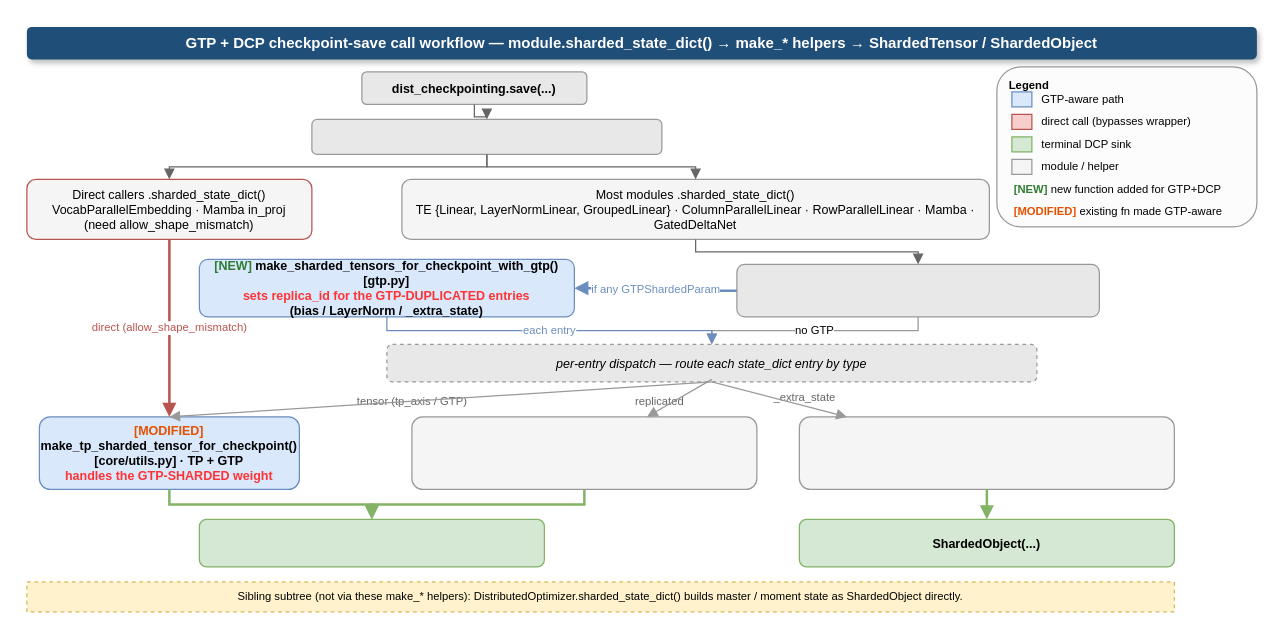
Image size: 1285x634. Some labels were removed from this diagram. Here are the shapes that lost their labels. From the top down, the centre of each, then its label:
At [486,136]: "model.sharded_state_dict() — recurses submodules".
At [917,290]: "make_sharded_tensors_for_checkpoint() [core/transformer/utils.py]".
At [584,452]: "make_sharded_tensor_for_checkpoint() [core/utils.py] · replicated".
At [986,452]: "make_sharded_object_for_checkpoint() [core/transformer/utils.py] · _extra_state".
At [371,542]: "ShardedTensor.from_rank_offsets()".
